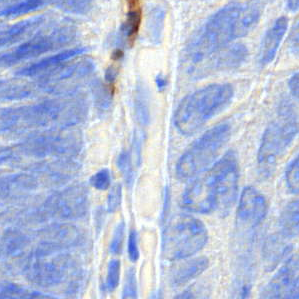Lymphocyte: (123, 1, 144, 46)
